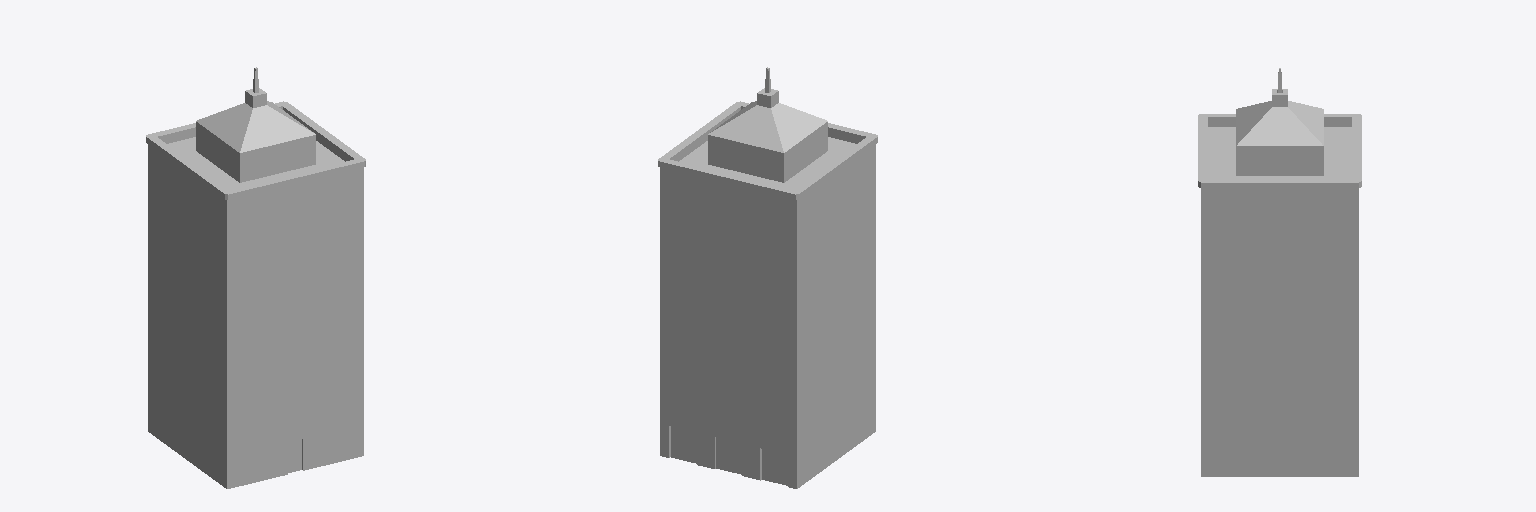
File: skyscraper_e.obj
3 views of the same model, side by side, from view 1: azimuth 30°, elevation 25°; view 2: azimuth 150°, elevation 25°; view 3: azimuth 270°, elevation 25° (orthographic).
Parts seen in each view (by area): view 1: skyscraperE; view 2: skyscraperE; view 3: skyscraperE.
Boxes of the visible parts, <box> form: skyscraperE: <box>146,67,365,488</box>; skyscraperE: <box>658,67,877,488</box>; skyscraperE: <box>1198,68,1361,476</box>.
Bounding box in the file's own units: 2.48 × 6.3 × 2.48.